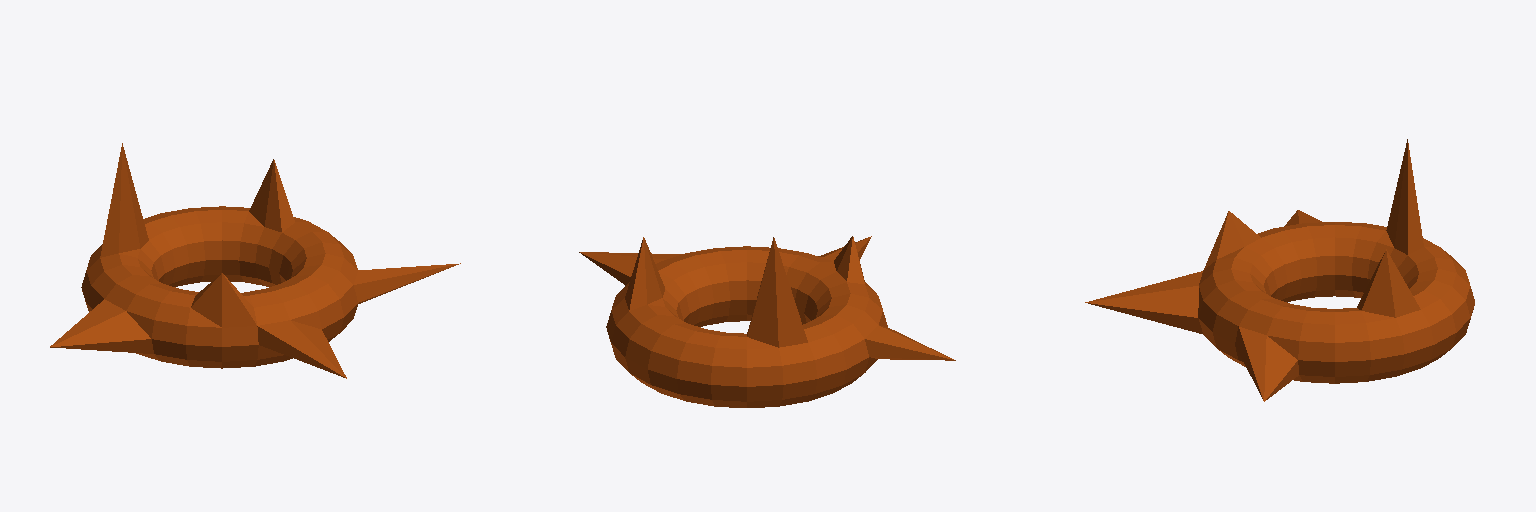
The model's file is expo.obj.
3 renders of one model, left to right at view 1: azimuth 30°, elevation 25°; view 2: azimuth 150°, elevation 25°; view 3: azimuth 270°, elevation 25°, orthographic.
Parts seen in each view (by area): view 1: Torus001; view 2: Torus001; view 3: Torus001.
Part boxes in pixels (x1,y1,x2,y2): Torus001: (50,143,460,378); Torus001: (579,236,955,407); Torus001: (1085,139,1474,401).
Bounding box in the file's own units: 177 × 71.77 × 152.